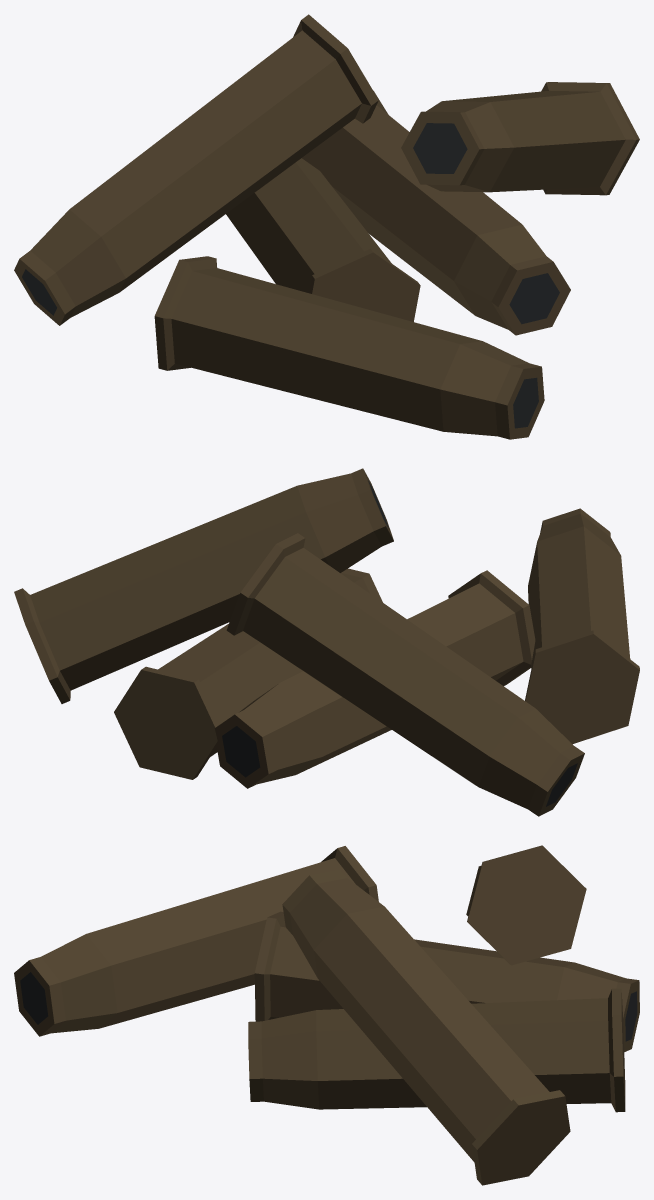
File: SM_Prop_Shell_Pile_01.glb
3 views of the same model, one above another, from view 1: azimuth 30°, elevation 25°; view 2: azimuth 150°, elevation 25°; view 3: azimuth 270°, elevation 25° (orthographic). The views are drawn at different scales.
Visible parts, largest first — view 1: SM_Prop_Shell_Pile_01; view 2: SM_Prop_Shell_Pile_01; view 3: SM_Prop_Shell_Pile_01.
Part boxes in pixels (x1,y1,x2,y2): SM_Prop_Shell_Pile_01: [14, 14, 639, 439]; SM_Prop_Shell_Pile_01: [14, 468, 639, 816]; SM_Prop_Shell_Pile_01: [14, 845, 639, 1185].
Size of the model in its own units: 1.37 by 0.5071 by 1.3.
1 material, 1 textured.
